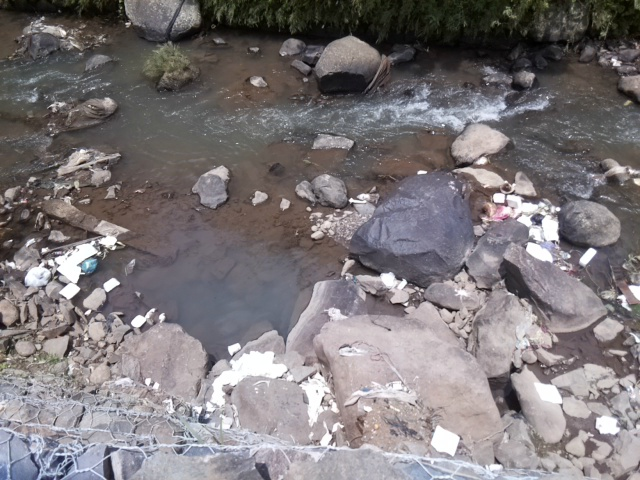Sampah_Plastik: (201, 349, 293, 407), (341, 379, 422, 410), (300, 373, 340, 426), (24, 262, 52, 290), (483, 204, 508, 224), (378, 270, 398, 289), (78, 257, 98, 273), (530, 211, 545, 226)
Sampah_Styrofoam: (55, 243, 99, 280), (429, 424, 461, 459), (533, 380, 566, 407), (529, 221, 563, 244), (594, 413, 623, 439), (522, 240, 553, 264), (506, 195, 532, 223), (578, 246, 600, 267), (58, 282, 82, 300), (96, 236, 121, 248), (129, 313, 147, 329), (103, 277, 119, 293), (492, 190, 506, 205)
